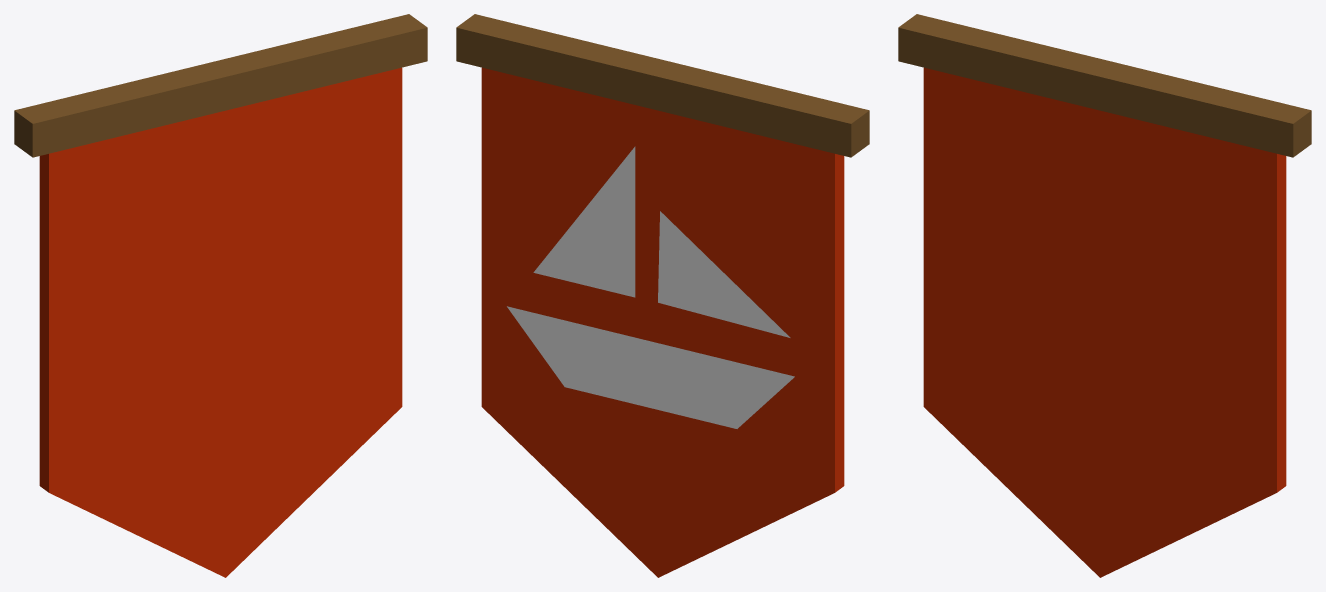
The model's file is shipflag.fbx.
3 views of the same model, side by side, from view 1: azimuth 30°, elevation 25°; view 2: azimuth 150°, elevation 25°; view 3: azimuth 330°, elevation 25° (orthographic).
Parts seen in each view (by area): view 1: pCube18; view 2: pCube18; view 3: pCube18.
Part boxes in pixels (bbox=[...]): pCube18: bbox=[14, 14, 427, 577]; pCube18: bbox=[456, 14, 869, 577]; pCube18: bbox=[898, 14, 1311, 577].
Bounding box in the file's own units: 25.03 × 30.62 × 2.04.
Materials: 1 (1 with a texture image).
